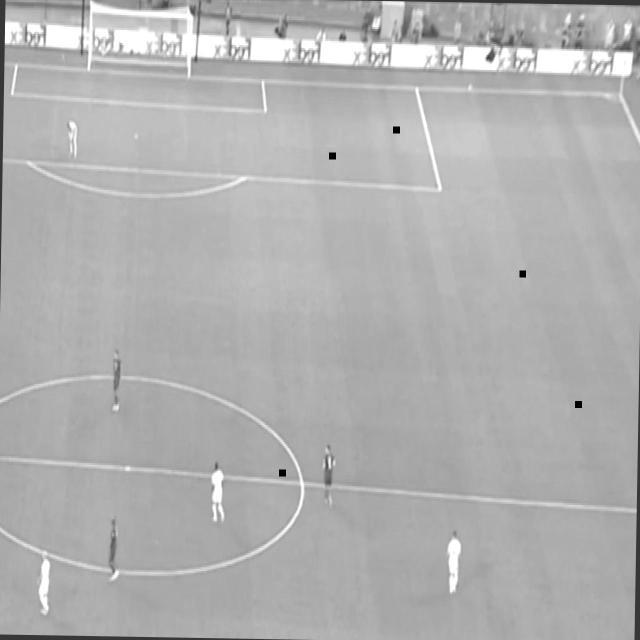player-white: (320, 437, 338, 513), (35, 548, 54, 620), (209, 458, 229, 526), (446, 521, 462, 603), (108, 345, 126, 417), (106, 512, 122, 590), (64, 117, 82, 161)
